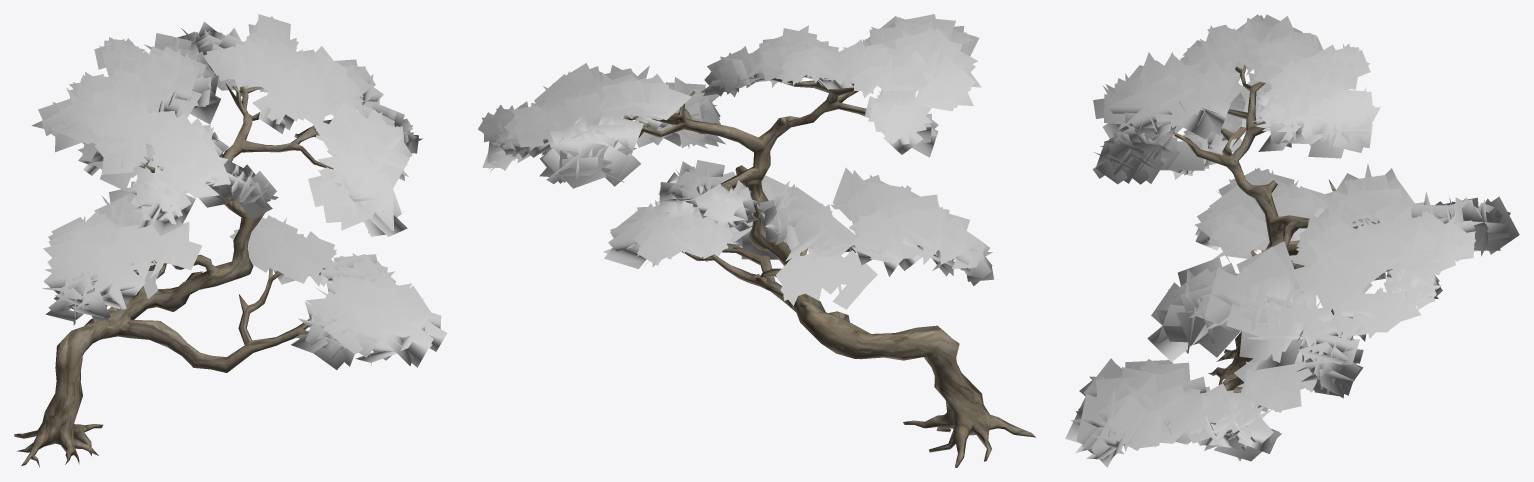
Rendered from SM_Com_Tre_02AL.fbx.
3 views of the same model, side by side, from view 1: azimuth 30°, elevation 25°; view 2: azimuth 150°, elevation 25°; view 3: azimuth 270°, elevation 25° (orthographic). The views are drawn at different scales.
Parts seen in each view (by area): view 1: SM_Com_Tre_02AL.mo; view 2: SM_Com_Tre_02AL.mo; view 3: SM_Com_Tre_02AL.mo.
Part boxes in pixels (x1,y1,x2,y2): SM_Com_Tre_02AL.mo: [14, 14, 447, 467]; SM_Com_Tre_02AL.mo: [478, 14, 1035, 467]; SM_Com_Tre_02AL.mo: [1065, 14, 1519, 467].
Bounding box in the file's own units: 13.87 × 10.79 × 11.1.
